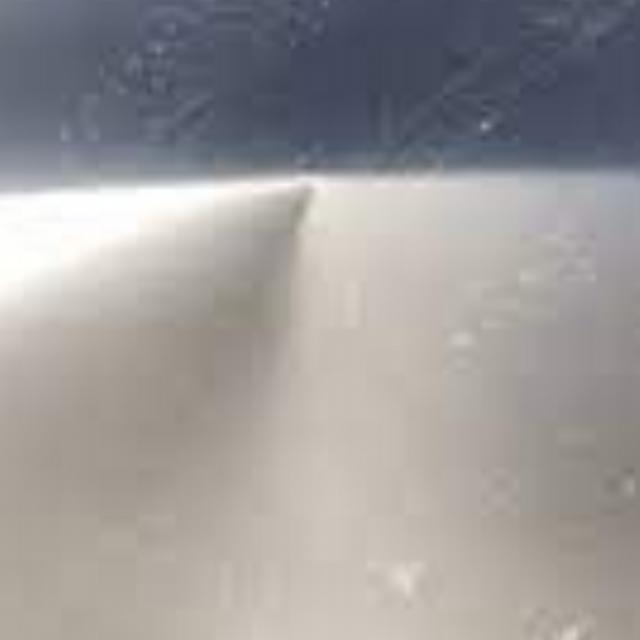dents: (270, 163, 362, 339)
